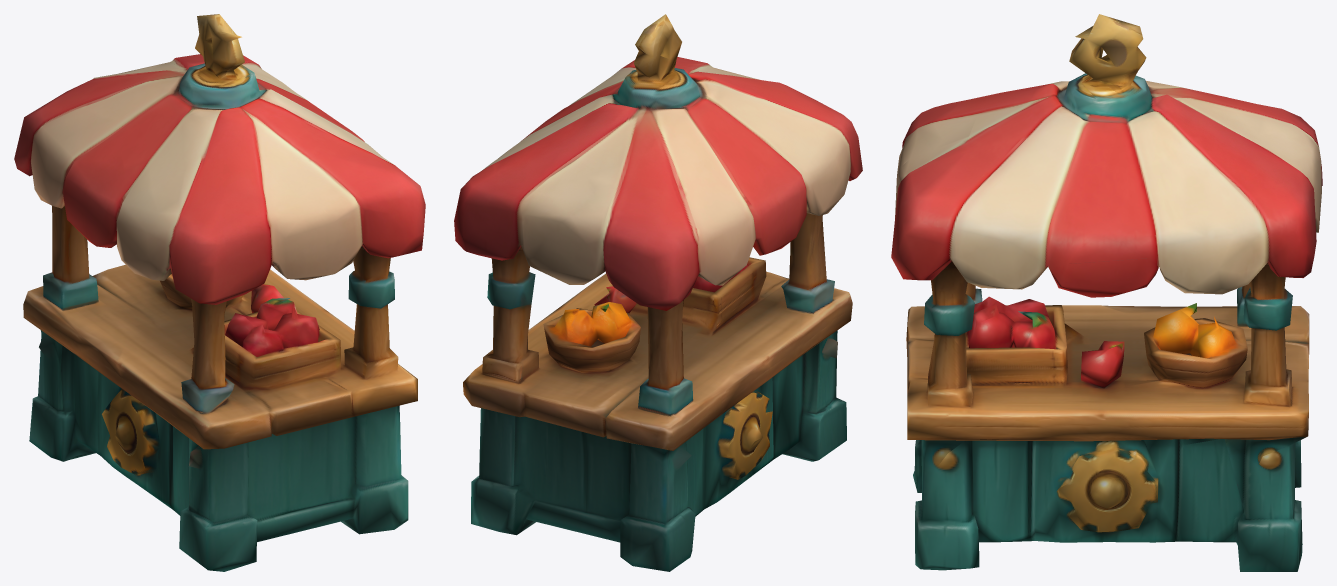
The model's file is Kit_X_StallRed_raw.glb.
The picture shows the model from 3 angles, left to right: view 1: azimuth 30°, elevation 25°; view 2: azimuth 150°, elevation 25°; view 3: azimuth 270°, elevation 25°; orthographic projection. The views are drawn at different scales.
Parts seen in each view (by area): view 1: tripo_node_32eafbd4-2536-44d5-aadb-06a0951586a0; view 2: tripo_node_32eafbd4-2536-44d5-aadb-06a0951586a0; view 3: tripo_node_32eafbd4-2536-44d5-aadb-06a0951586a0.
Part boxes in pixels (bbox=[...]): tripo_node_32eafbd4-2536-44d5-aadb-06a0951586a0: bbox=[14, 14, 425, 571]; tripo_node_32eafbd4-2536-44d5-aadb-06a0951586a0: bbox=[454, 14, 862, 571]; tripo_node_32eafbd4-2536-44d5-aadb-06a0951586a0: bbox=[891, 14, 1322, 571].
Size of the model in its own units: 0.5795 by 1 by 0.7743.
1 material, 1 textured.
